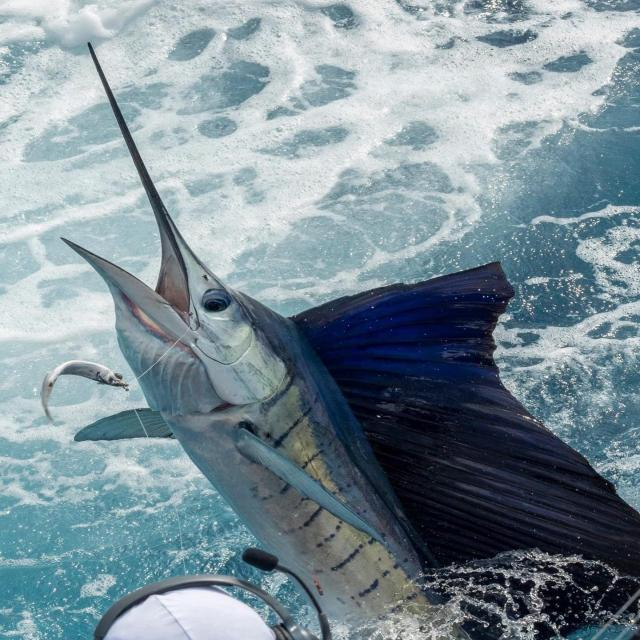Sail Fish: (57, 40, 640, 640)
